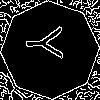Y: (25, 25, 73, 61)
